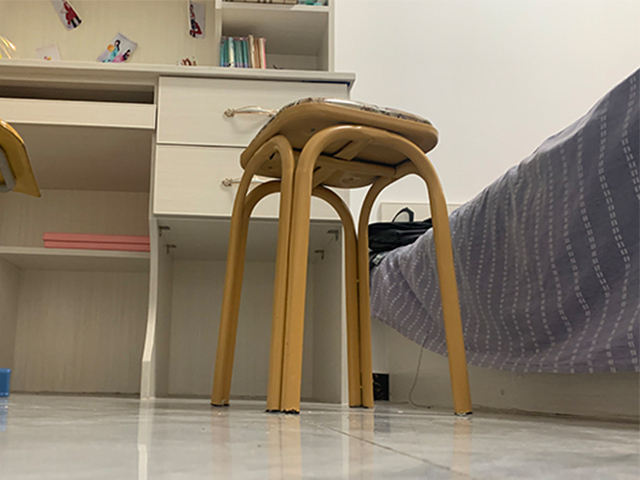bed: (372, 66, 640, 423)
stool: (210, 95, 473, 416)
table: (1, 67, 359, 404)
